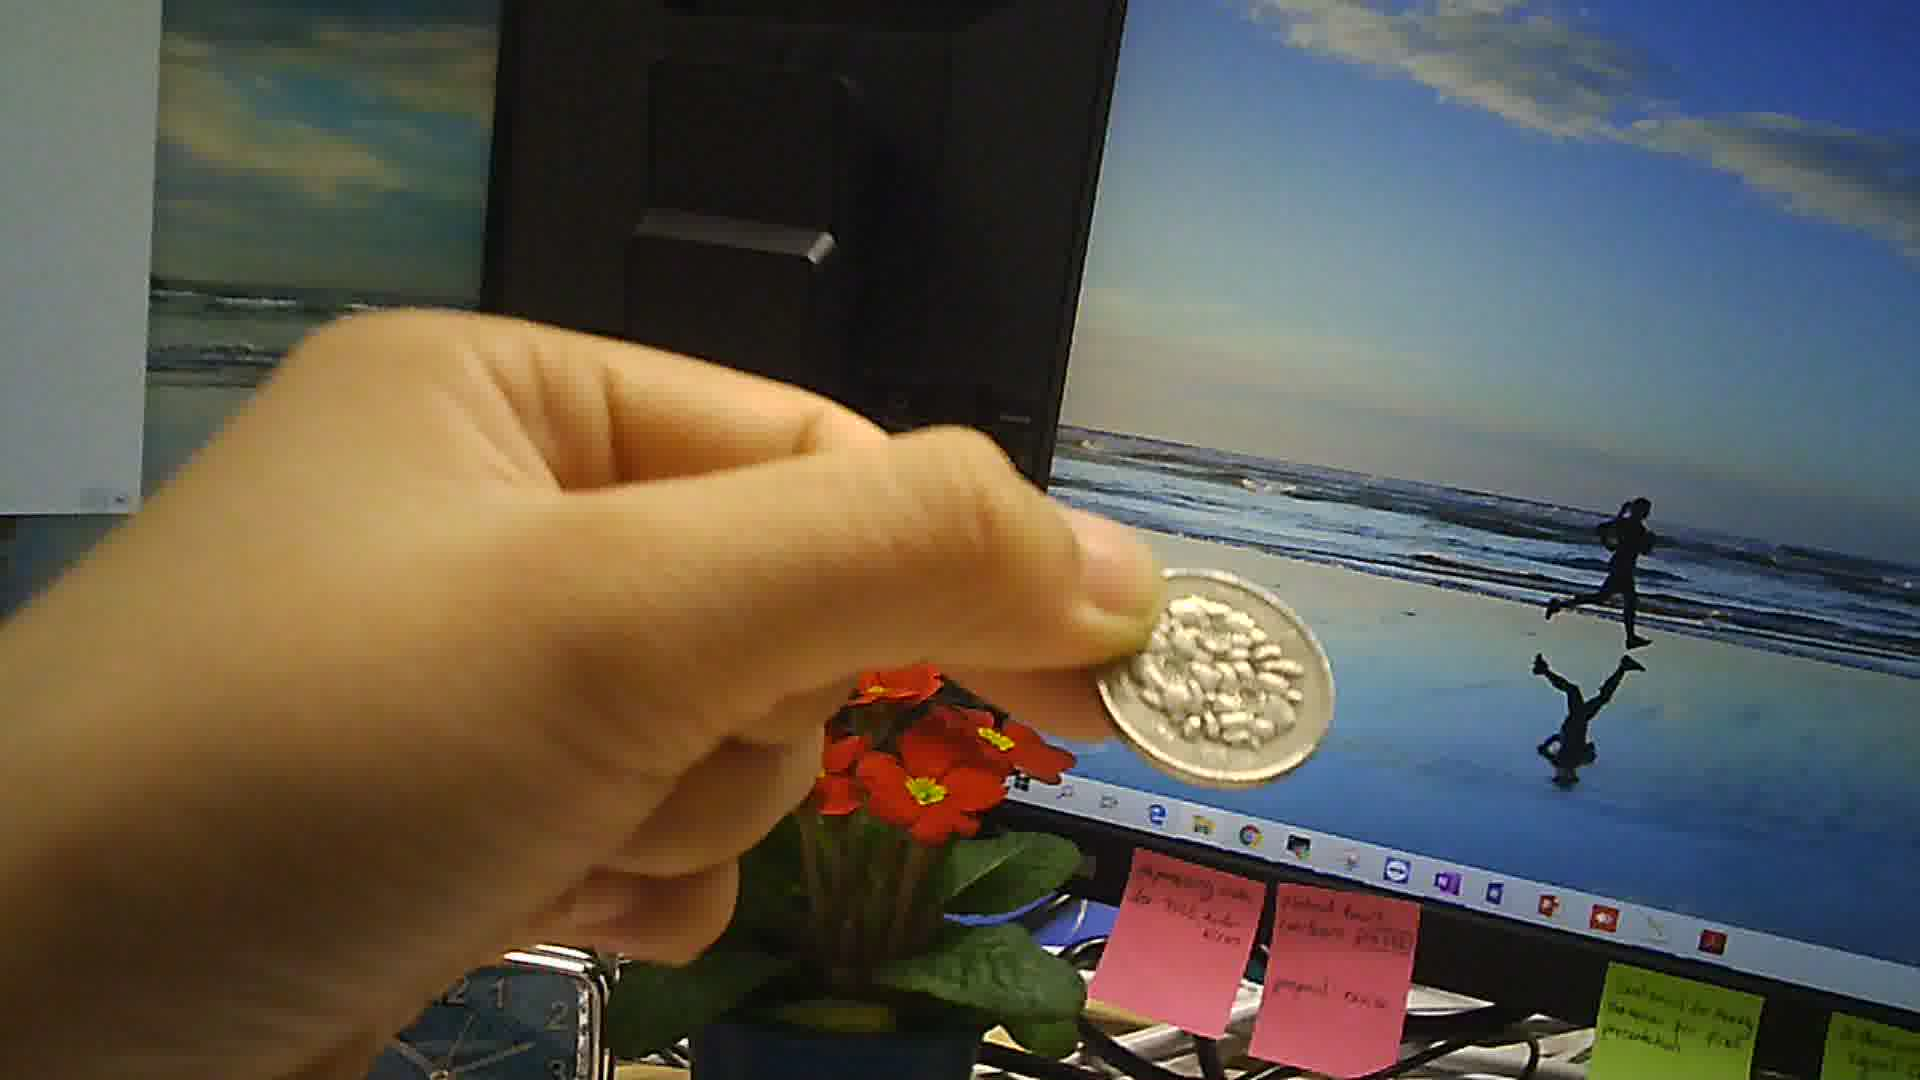100 Yen: (1088, 560, 1346, 795)
